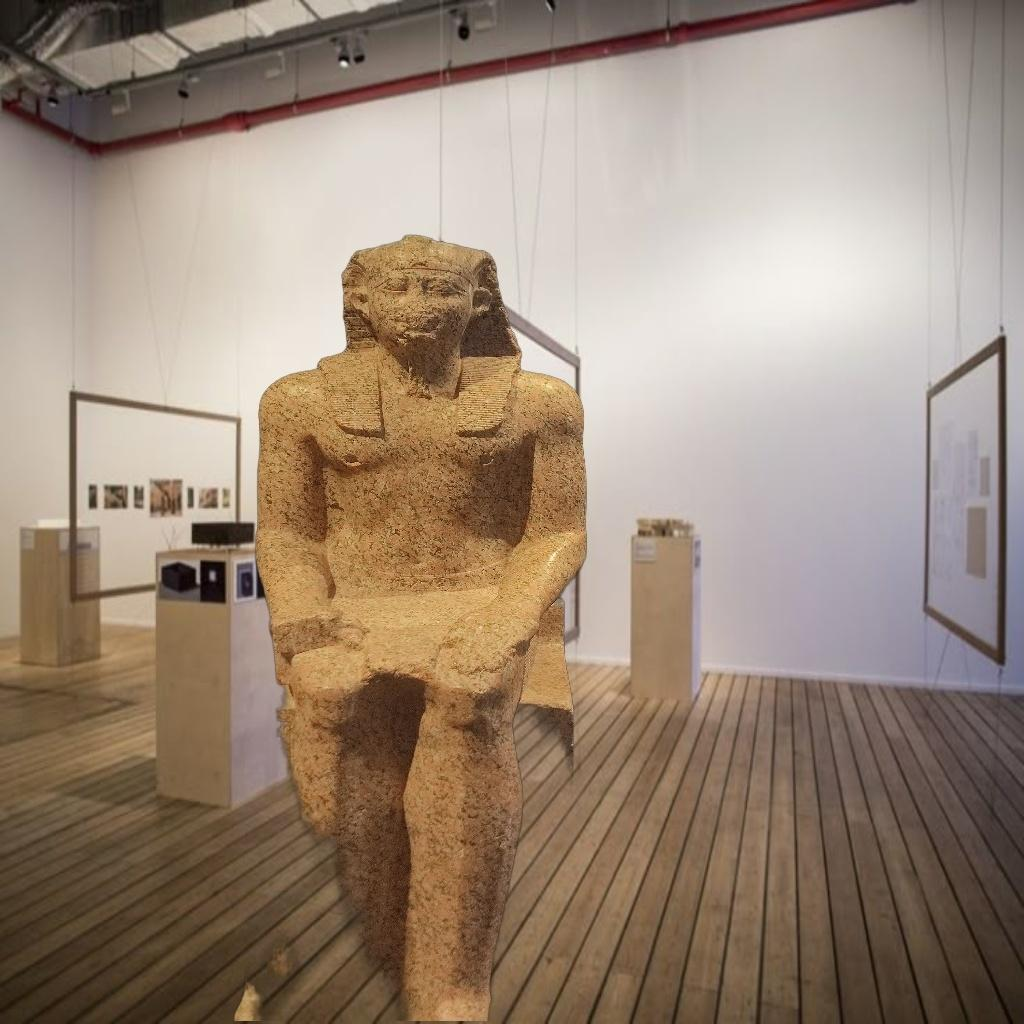Statue of Amenmhat I: (234, 232, 592, 1022)
